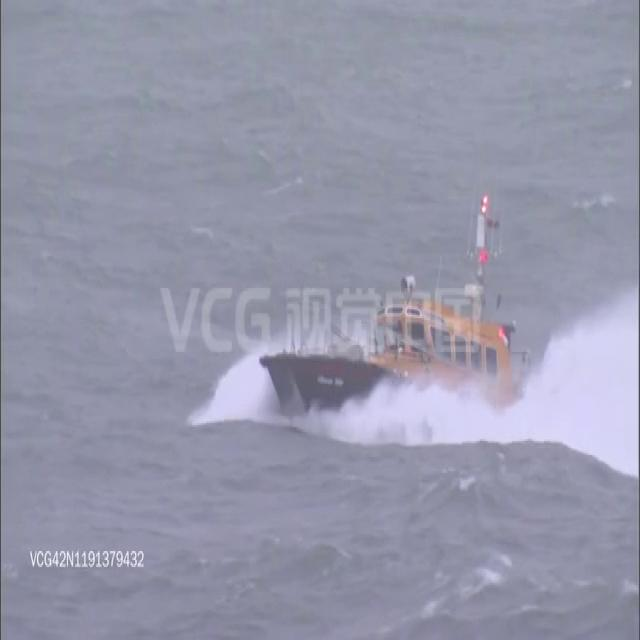houseboat: (257, 192, 524, 448)
